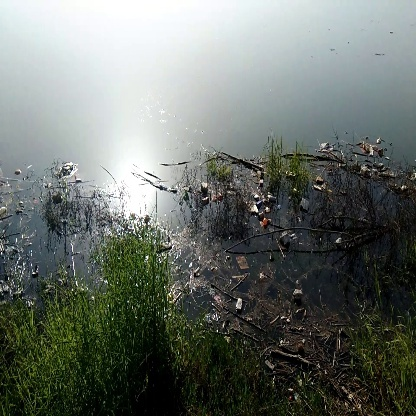branch: (223, 220, 393, 252)
